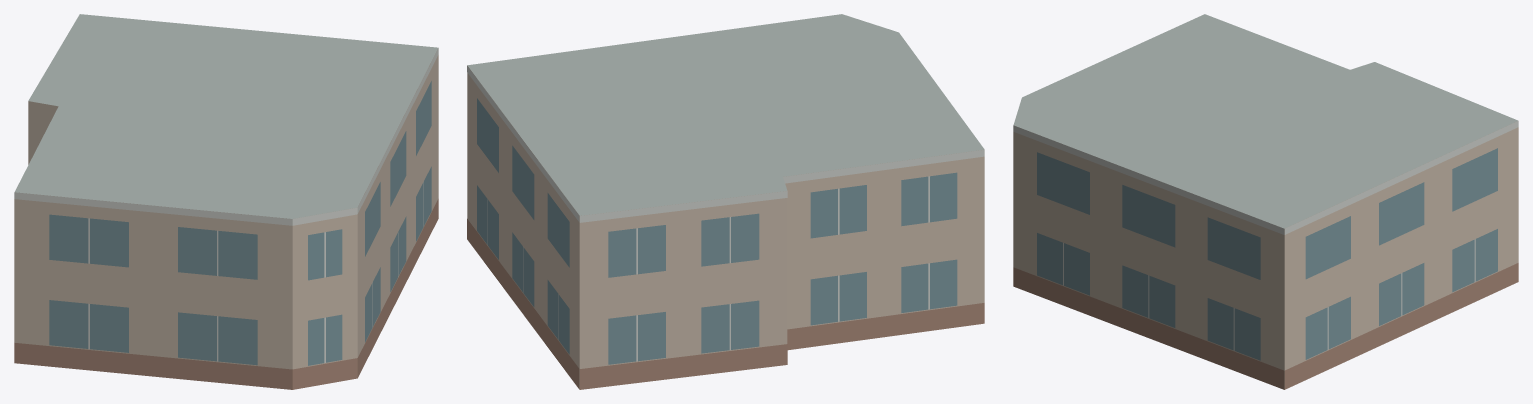
Rendered from survey-upis-32607497.glb.
3 renders of one model, left to right at view 1: azimuth 30°, elevation 25°; view 2: azimuth 150°, elevation 25°; view 3: azimuth 270°, elevation 25°, orthographic. The views are drawn at different scales.
Visible parts, largest first — view 1: survey-upis-32607497.tmp; view 2: survey-upis-32607497.tmp; view 3: survey-upis-32607497.tmp.
Boxes of the visible parts, box(x1,y1,x2,y2) form: survey-upis-32607497.tmp: box(14, 14, 438, 389); survey-upis-32607497.tmp: box(467, 14, 984, 389); survey-upis-32607497.tmp: box(1013, 14, 1518, 389).
Size of the model in its own units: 17.43 by 6.1 by 17.33.
